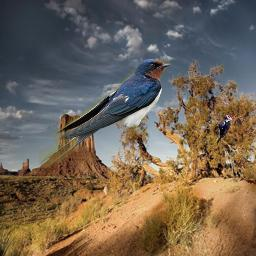Swallow: (39, 59, 171, 169)
Woodpecker: (217, 114, 236, 145)
